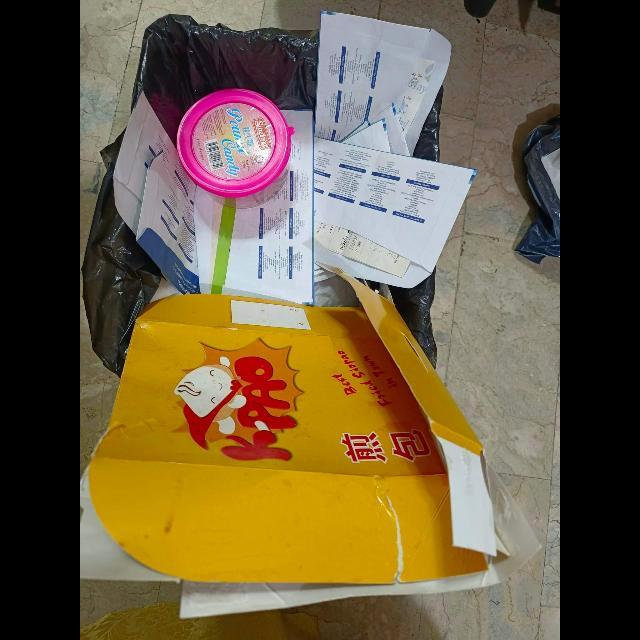cardboard: (80, 262, 542, 621)
paper: (313, 138, 478, 289), (193, 109, 313, 304), (313, 11, 452, 158), (113, 91, 201, 295)
plastic_container: (176, 89, 295, 209)
